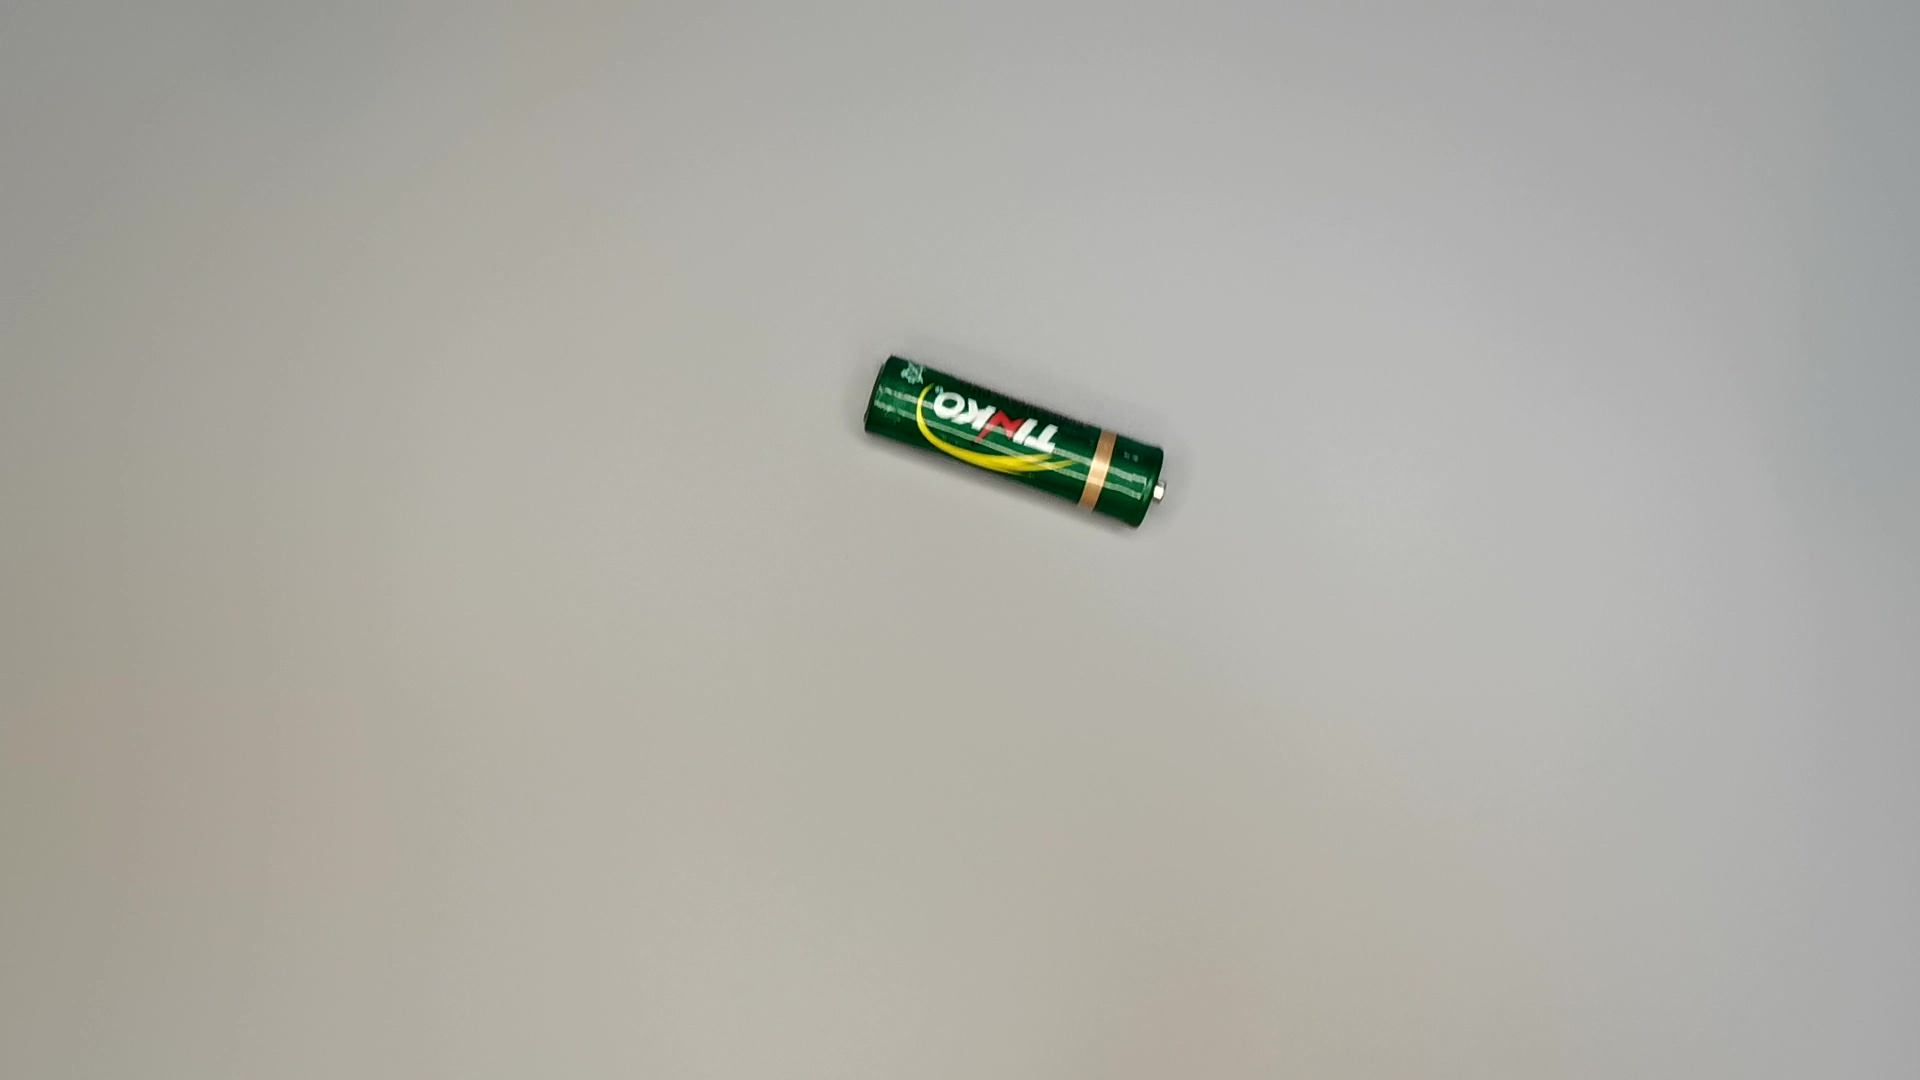battery: (855, 345, 1180, 535)
